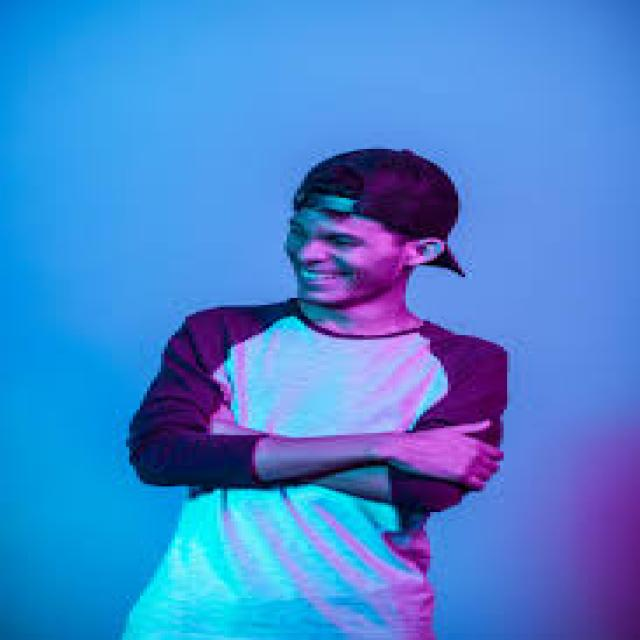cap: (287, 146, 472, 310)
